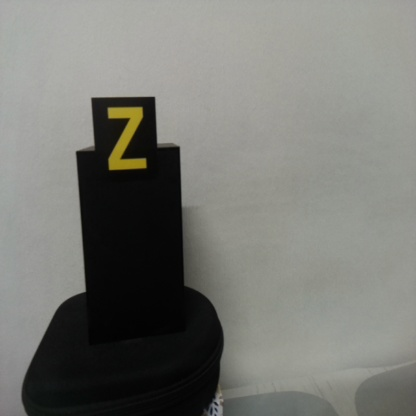id_15: (91, 96, 157, 181)
